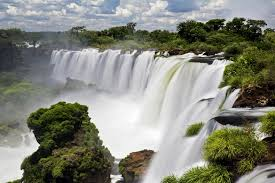sky: (2, 1, 260, 31)
tree: (25, 109, 108, 183)
waterfall: (23, 43, 225, 170)
